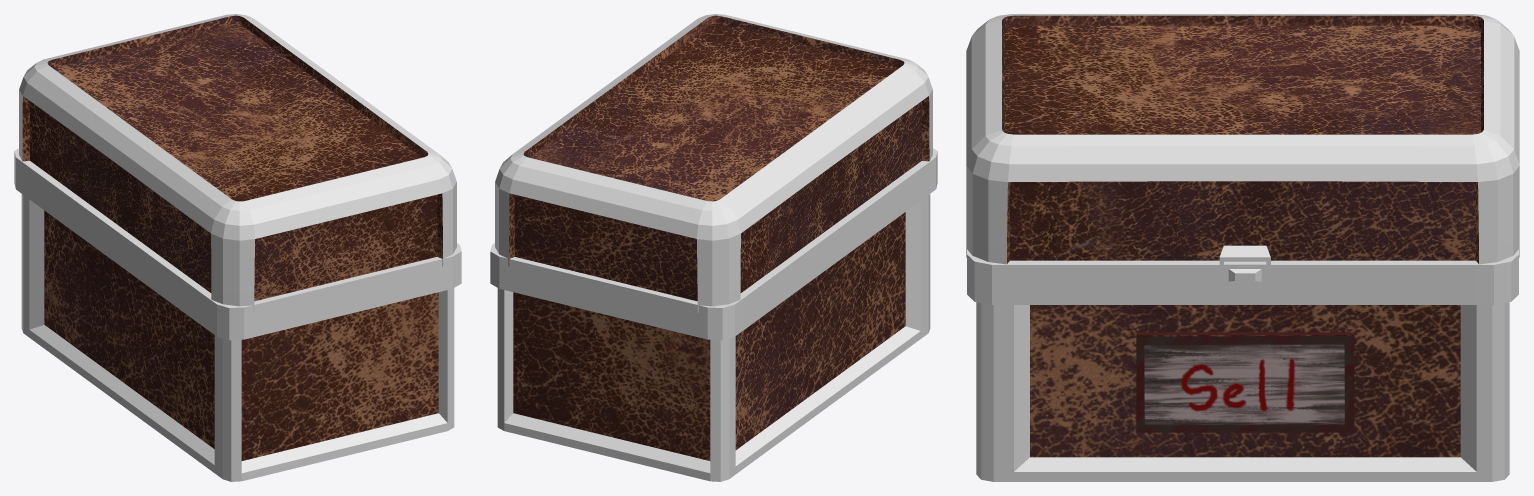
Rendered from Selling Chest.fbx.
3 views of the same model, side by side, from view 1: azimuth 30°, elevation 25°; view 2: azimuth 150°, elevation 25°; view 3: azimuth 270°, elevation 25° (orthographic). The views are drawn at different scales.
Visible parts, largest first — view 1: Chest lid, Chest Base; view 2: Chest lid, Chest Base; view 3: Chest lid, Chest Base.
Boxes of the visible parts, bbox=[...] form: Chest lid: bbox=[19, 14, 456, 312]; Chest Base: bbox=[14, 148, 461, 481]; Chest lid: bbox=[495, 14, 932, 312]; Chest Base: bbox=[490, 148, 937, 481]; Chest lid: bbox=[966, 14, 1519, 285]; Chest Base: bbox=[967, 249, 1518, 481].
Size of the model in its own units: 77.19 by 78.96 by 118.
